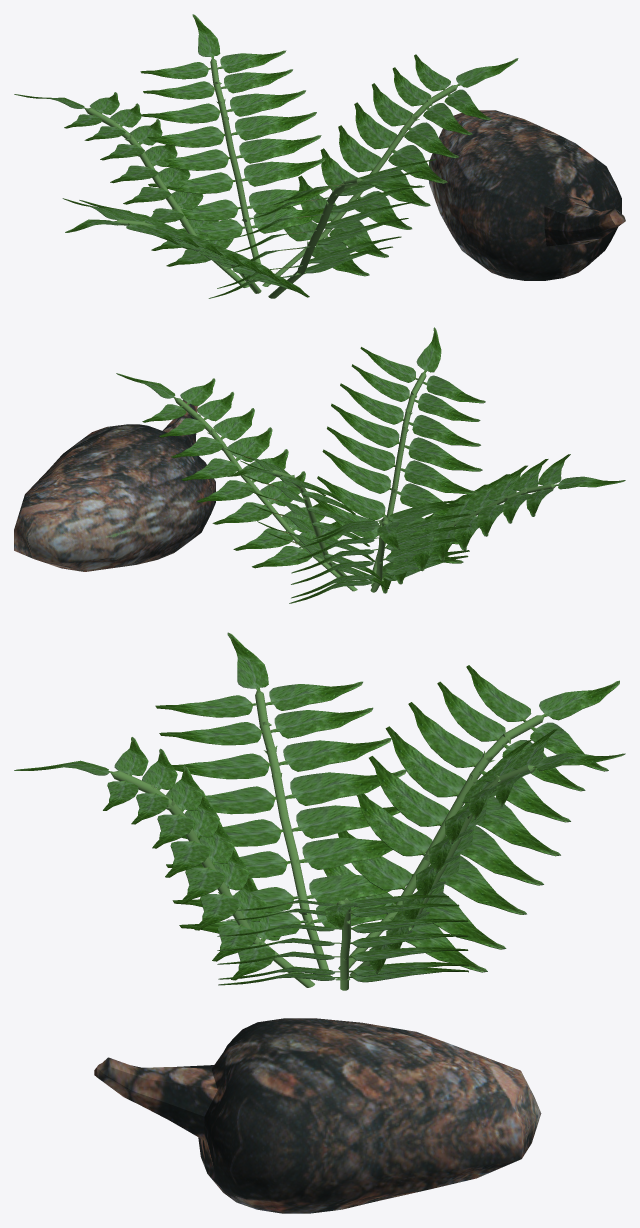
Rendered from mianmaguanzhong.FBX.
3 renders of one model, top to bottom at view 1: azimuth 30°, elevation 25°; view 2: azimuth 150°, elevation 25°; view 3: azimuth 270°, elevation 25°, orthographic. The views are drawn at different scales.
Parts seen in each view (by area): view 1: Sphere001, Line019, Line027, Line025, Line029, Line003, Line073, Line037, Line031, Line023, Line021, Line028 (+43 smaller); view 2: Sphere001, Line003, Line083, Line081, Line078, Line080, Line082, Line073, Line076, Line085, Line084, Line011 (+39 smaller); view 3: Sphere001, Line055, Line065, Line037, Line067, Line044, Line046, Line061, Line042, Line063, Line048, Line069 (+40 smaller).
Boxes of the visible parts, x1,y1,x2,y2 form: Sphere001: (429, 110, 625, 280); Line019: (210, 58, 260, 263); Line027: (236, 135, 321, 163); Line025: (241, 158, 325, 186); Line029: (231, 112, 316, 140); Line003: (262, 85, 457, 286); Line073: (268, 178, 362, 298); Line037: (85, 108, 248, 287); Line031: (226, 90, 305, 116); Line023: (247, 186, 329, 214); Line021: (251, 206, 335, 233); Line028: (147, 126, 225, 147); Sphere001: (14, 400, 215, 571); Line003: (174, 398, 357, 591); Line083: (404, 437, 482, 471); Line081: (400, 460, 477, 494); Line078: (322, 449, 391, 493); Line080: (327, 426, 395, 470); Line082: (331, 403, 399, 447); Line073: (371, 371, 426, 584); Line076: (317, 476, 386, 520); Line085: (408, 415, 480, 446); Line084: (340, 383, 403, 424); Line011: (227, 427, 272, 462); Sphere001: (94, 1018, 541, 1213); Line055: (255, 690, 330, 975); Line065: (285, 769, 406, 805); Line037: (338, 715, 543, 969); Line067: (278, 738, 391, 771); Line044: (369, 756, 449, 826); Line046: (385, 726, 466, 797); Line061: (299, 837, 392, 869); Line042: (356, 793, 432, 856); Line063: (292, 805, 400, 838); Line048: (408, 702, 483, 767); Line069: (270, 707, 373, 738).
Bounding box in the file's own units: 95.42 × 35.71 × 65.56.
